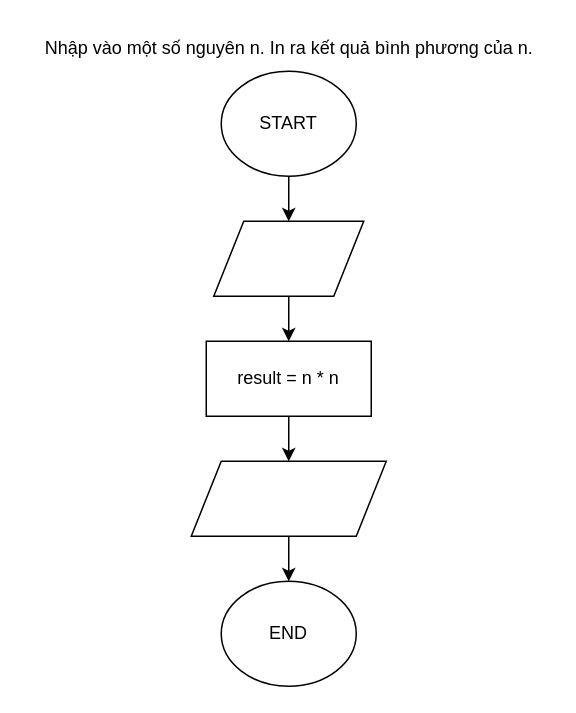
Image size: 576x713. Some labels were removed from this diagram. The box of each missing label's shape, as (x1, y1, x2, y2) in pixels:
INPUT n: (212, 220, 364, 296)
OUTPUT result: (190, 460, 386, 536)
